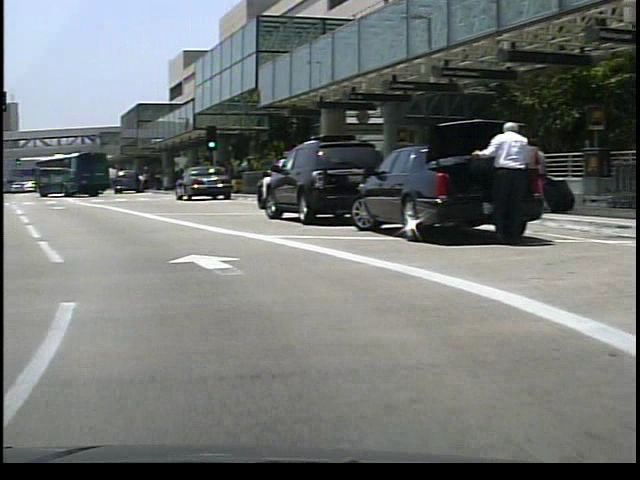person: (465, 110, 530, 249), (535, 135, 536, 216)
